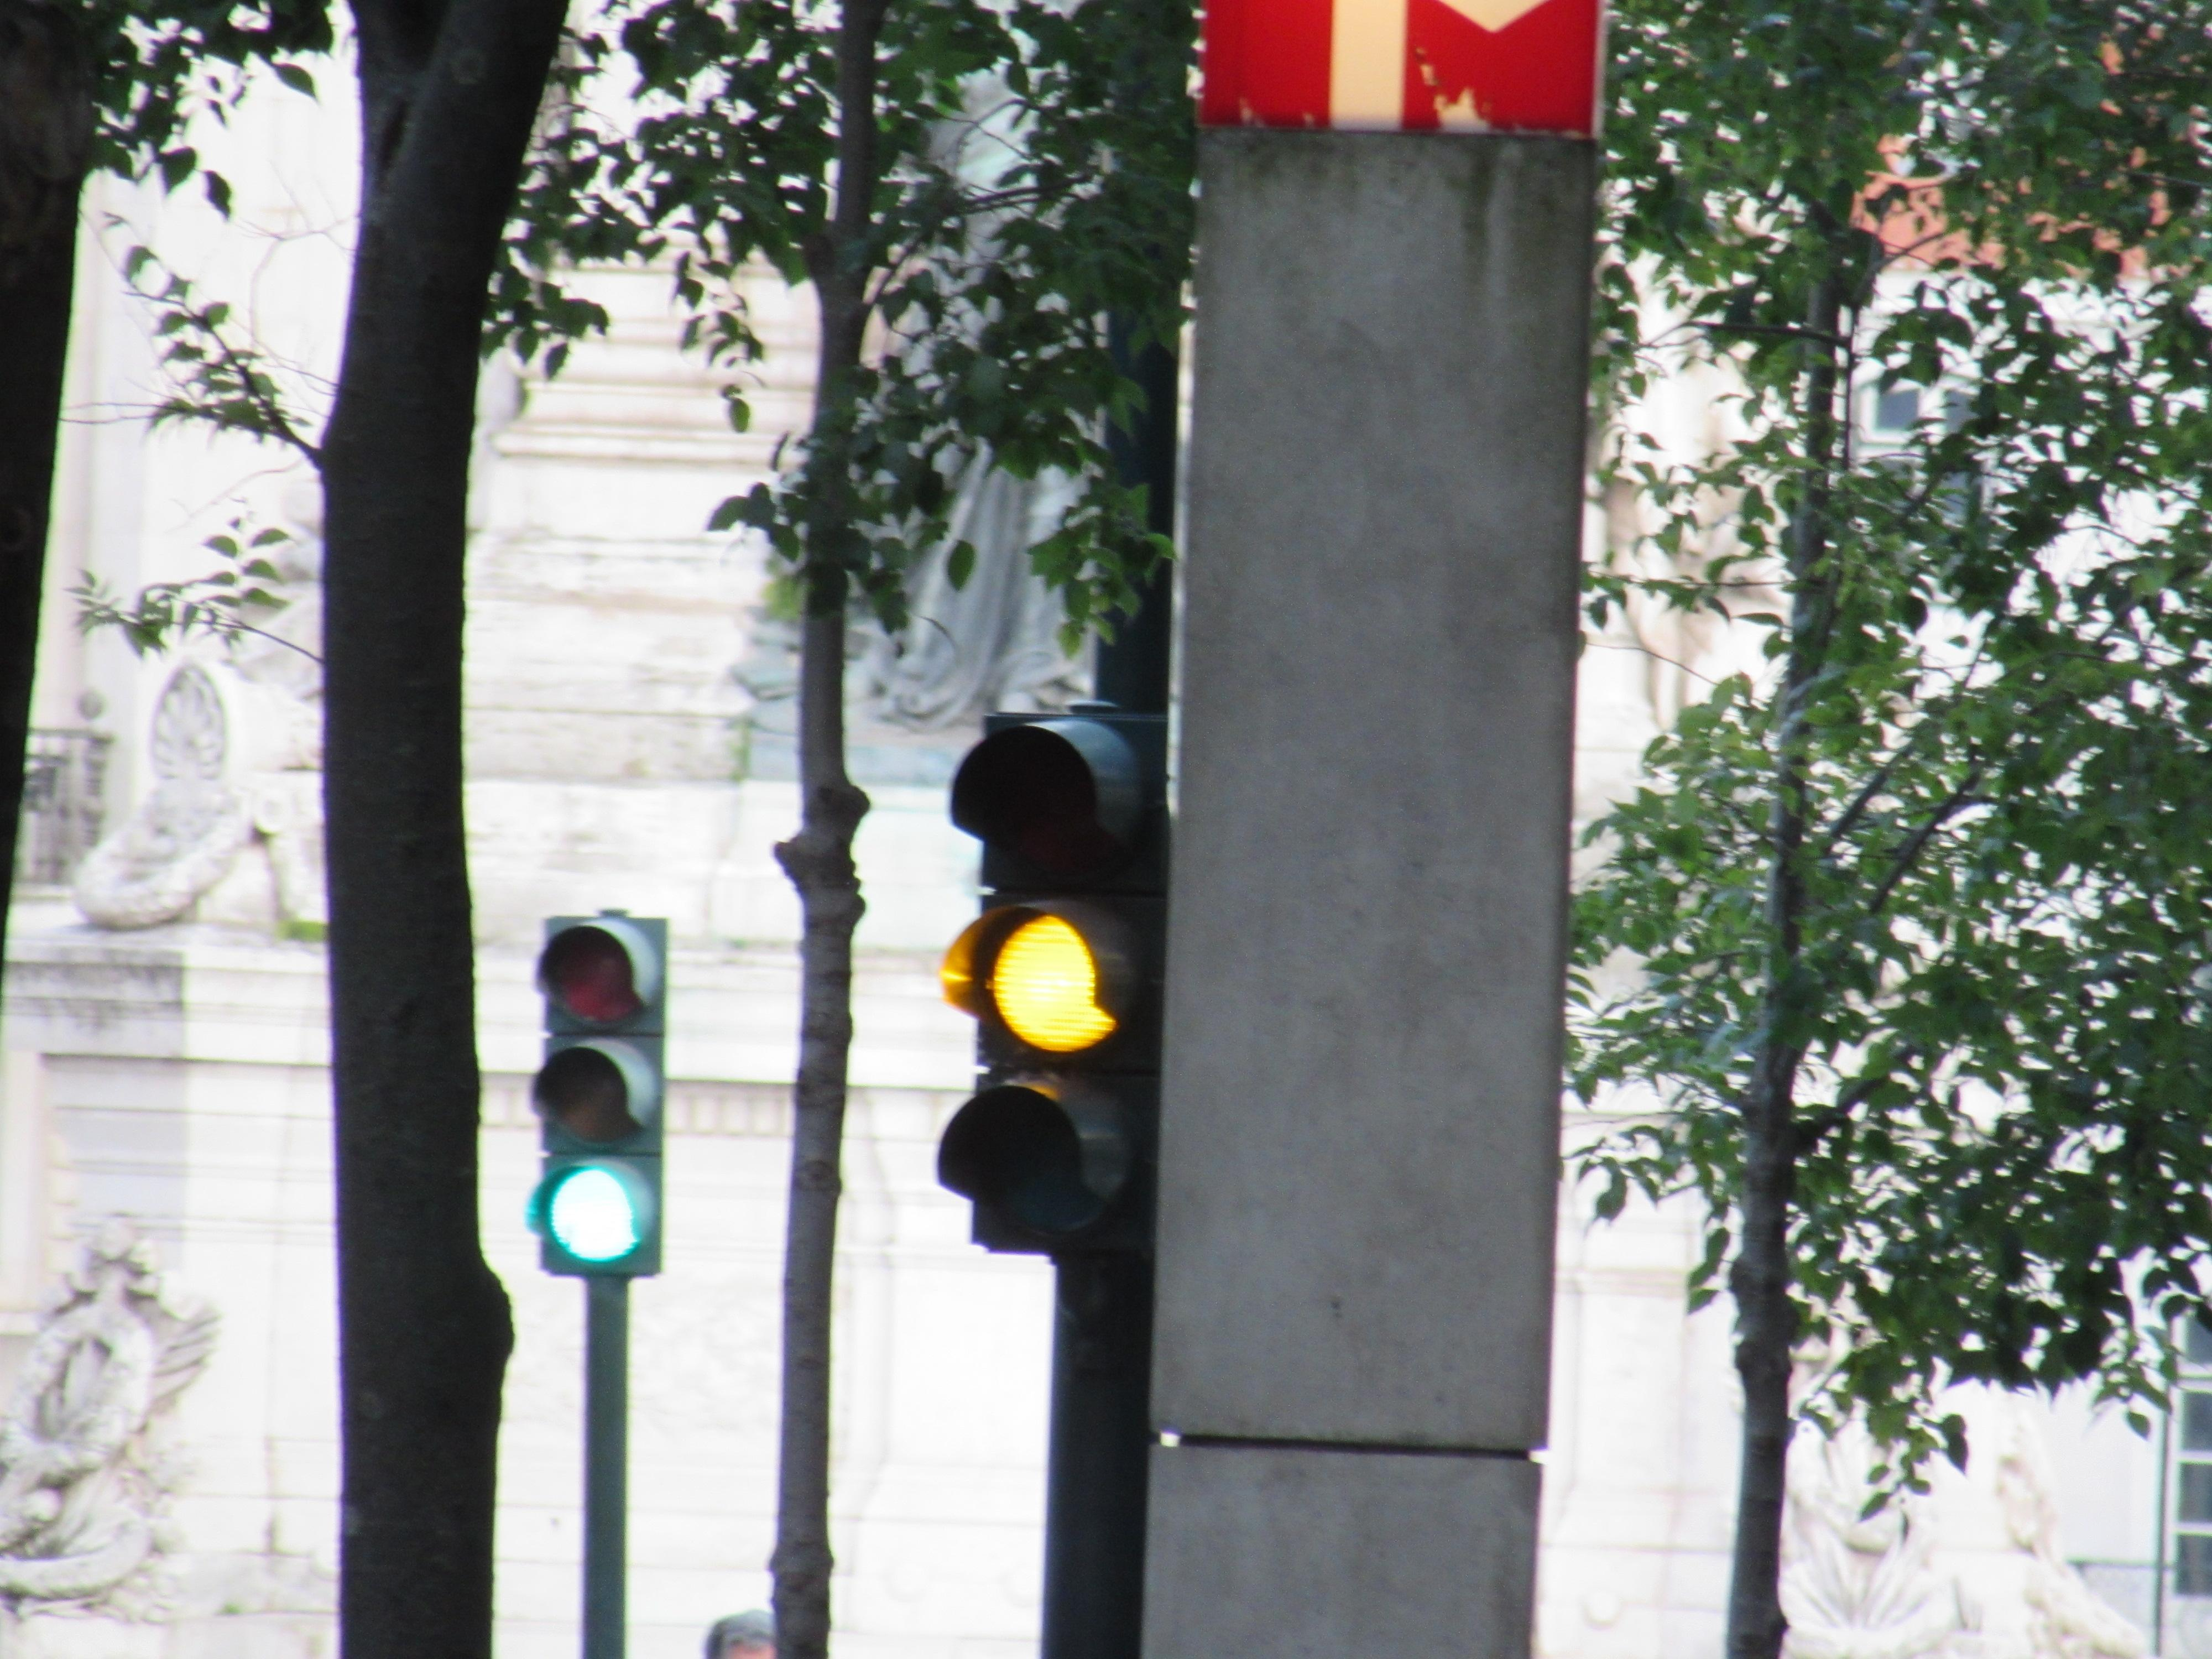green_light: (526, 917, 667, 1276)
yellow_light: (937, 713, 1167, 1255)
